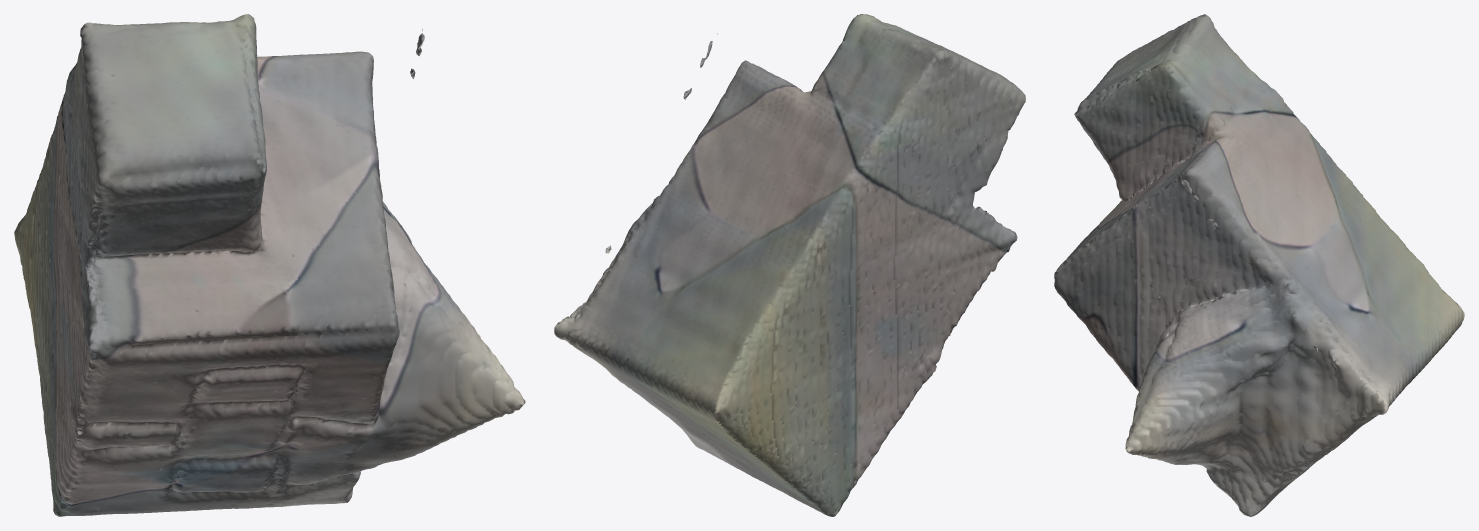
The model's file is clean.glb.
3 views of the same model, side by side, from view 1: azimuth 30°, elevation 25°; view 2: azimuth 150°, elevation 25°; view 3: azimuth 270°, elevation 25° (orthographic). The views are drawn at different scales.
Visible parts, largest first — view 1: raw; view 2: raw; view 3: raw.
Part boxes in pixels (bbox=[...]): raw: bbox=[14, 14, 525, 516]; raw: bbox=[554, 14, 1025, 516]; raw: bbox=[1054, 14, 1464, 516].
Bounding box in the file's own units: 0.7925 × 1 × 0.9229.
1 material, 1 textured.
